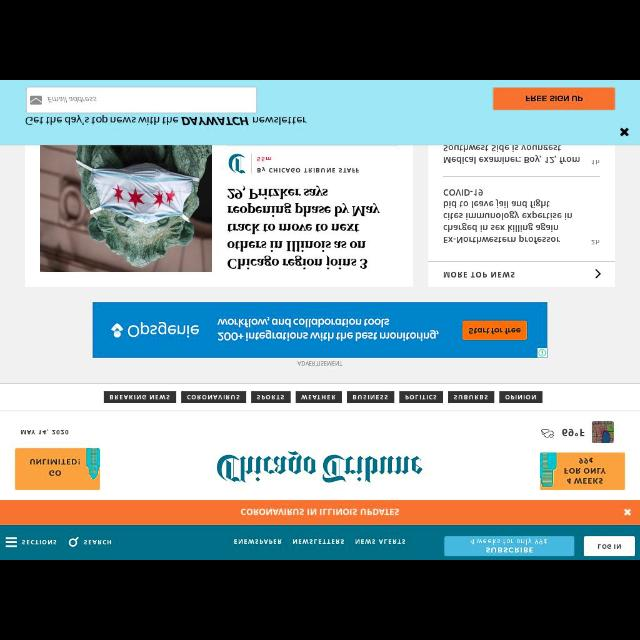icon: (5, 536, 17, 550), (540, 428, 556, 438), (29, 95, 41, 106), (622, 507, 632, 517), (69, 536, 77, 548), (594, 270, 602, 282), (621, 128, 629, 136)
iframe: (92, 302, 548, 358)
image: (40, 146, 212, 272), (216, 454, 424, 484), (15, 448, 99, 489), (540, 452, 626, 490), (228, 150, 248, 176), (592, 420, 614, 442)
input: (27, 86, 255, 114)
multitab: (103, 388, 543, 406)
panel: (24, 146, 412, 288), (1, 82, 639, 144), (430, 146, 614, 286)
text: (226, 182, 380, 272), (442, 180, 574, 246), (26, 114, 306, 126), (442, 146, 580, 164), (240, 506, 400, 516), (442, 268, 516, 280), (256, 167, 360, 175), (355, 536, 405, 546), (20, 426, 70, 436), (110, 393, 170, 401), (187, 392, 240, 400), (293, 537, 345, 545), (234, 538, 284, 546), (47, 96, 97, 104), (21, 538, 57, 546), (562, 427, 586, 439), (352, 393, 388, 401), (504, 392, 536, 401), (302, 393, 336, 401), (404, 393, 436, 401), (453, 394, 489, 401), (256, 392, 286, 400), (84, 539, 110, 547), (256, 155, 272, 163), (590, 158, 600, 166), (591, 240, 599, 247)
textbutton: (494, 88, 616, 110), (444, 538, 574, 556), (584, 536, 636, 556), (102, 392, 176, 404), (182, 391, 246, 404), (346, 392, 396, 403), (297, 392, 341, 403), (499, 392, 543, 403), (448, 392, 494, 402), (400, 392, 442, 402), (252, 392, 290, 402)
toolbar: (1, 526, 639, 558)
